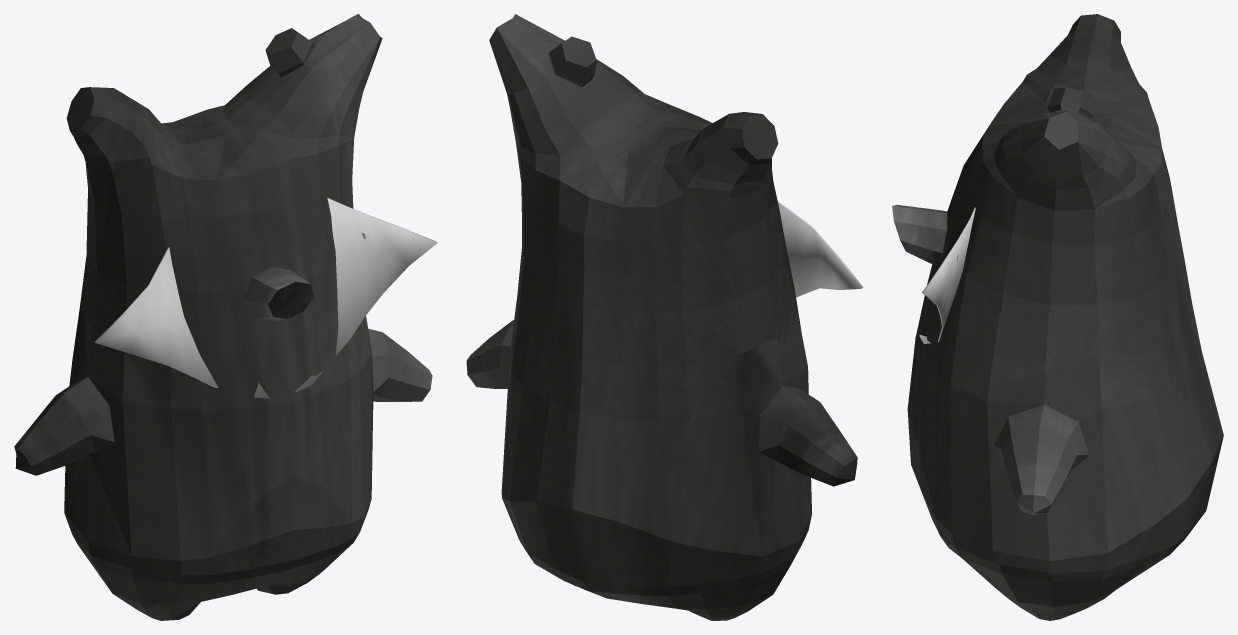
The model's file is frame_0090.obj.
The picture shows the model from 3 angles, left to right: view 1: azimuth 30°, elevation 25°; view 2: azimuth 150°, elevation 25°; view 3: azimuth 270°, elevation 25°; orthographic projection. The views are drawn at different scales.
Parts seen in each view (by area): view 1: korok, leaf, nose; view 2: korok, leaf; view 3: korok, nose, leaf.
Boxes of the visible parts, x1,y1,x2,y2 form: korok: (14, 14, 432, 620); leaf: (95, 198, 437, 398); nose: (244, 266, 313, 321); korok: (466, 14, 857, 620); leaf: (777, 201, 863, 297); korok: (907, 14, 1223, 620); nose: (892, 204, 947, 265); leaf: (919, 207, 975, 343).
Bounding box in the file's own units: 1.68 × 2.22 × 1.22.
